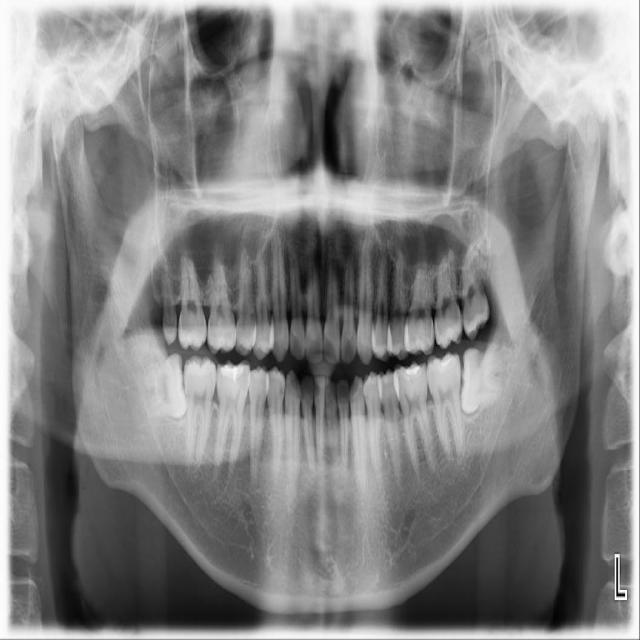3M ESPE Implant: (161, 253, 178, 347)
52: (391, 359, 432, 407), (213, 358, 250, 408), (426, 351, 463, 399)
73: (620, 611, 626, 619)
BioHorizons Implant: (434, 236, 463, 349)
BioLife Implant: (458, 230, 491, 342)
Biomet 3i Implant: (458, 337, 508, 415)
Blue Sky Bio Implant: (426, 351, 464, 467)
Caries: (178, 243, 207, 352)
Implant: (183, 355, 217, 469)
Keystone Dental Implant: (141, 352, 190, 419)
